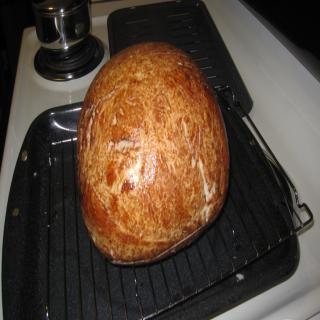Bread: (79, 40, 228, 267)
